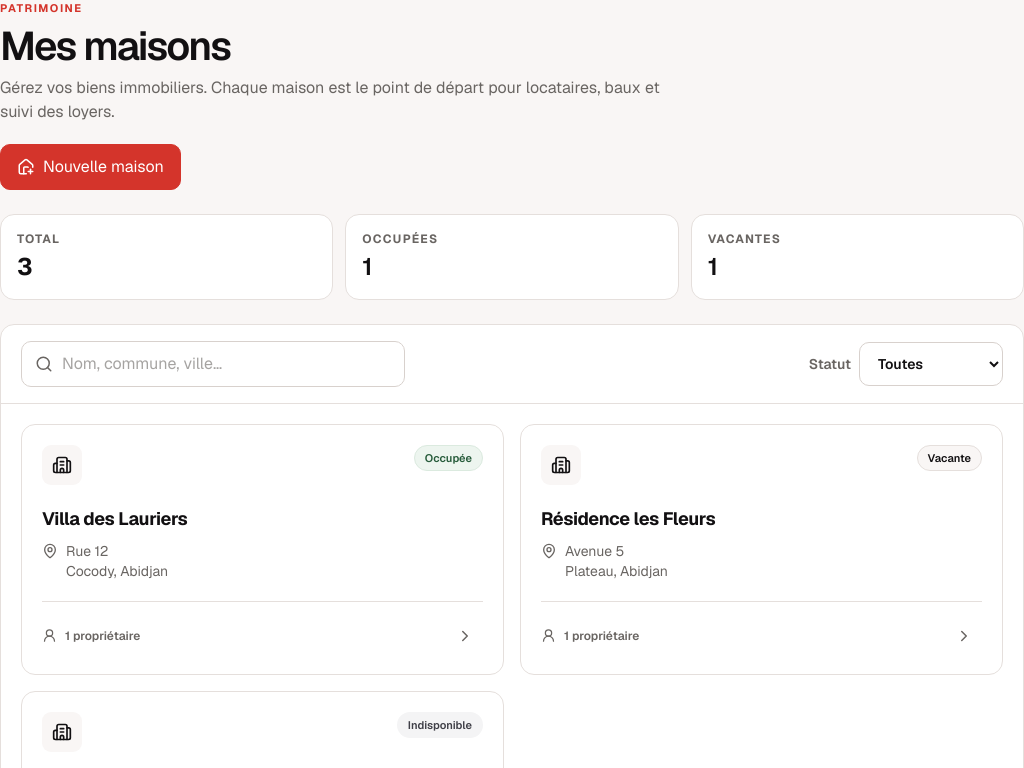
Scenario: HouseWorkspace › closes creation form on cancel
This screenshot has width=1024, height=768.
expect the heading "Villa des Lauriers" is shown: met, box [42,507,187,530]
Click the button "Nouvelle maison".
click(90, 167)  # box [0,144,181,190]
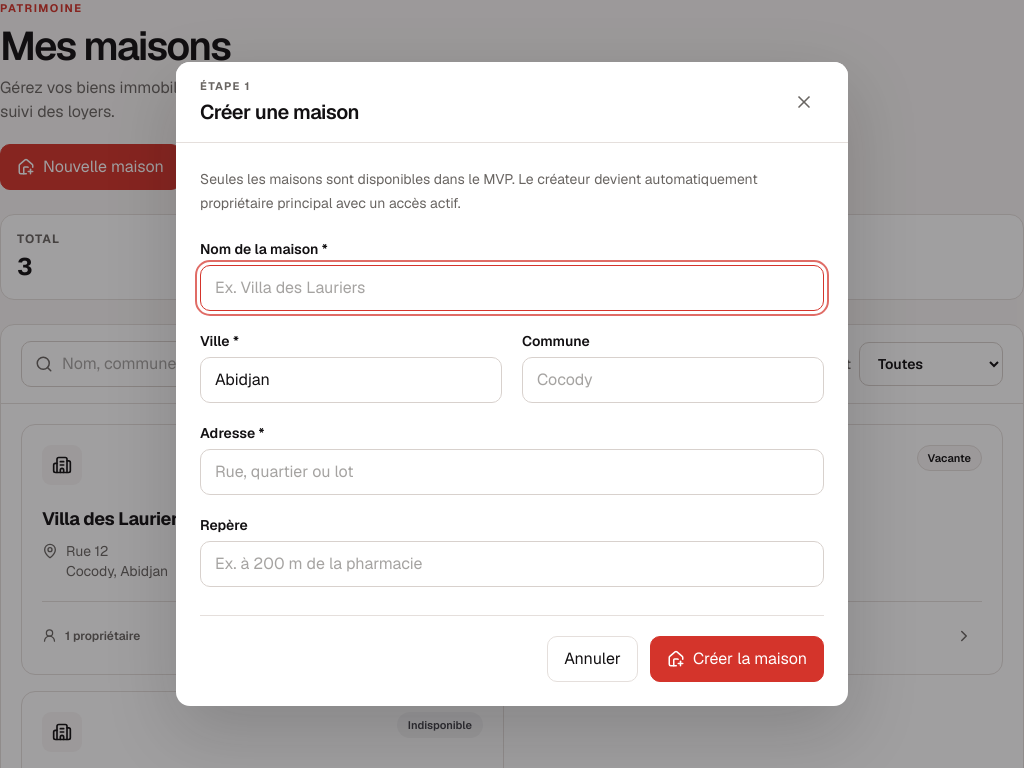
Click the button "Annuler".
click(593, 659)  # box [547,636,638,682]
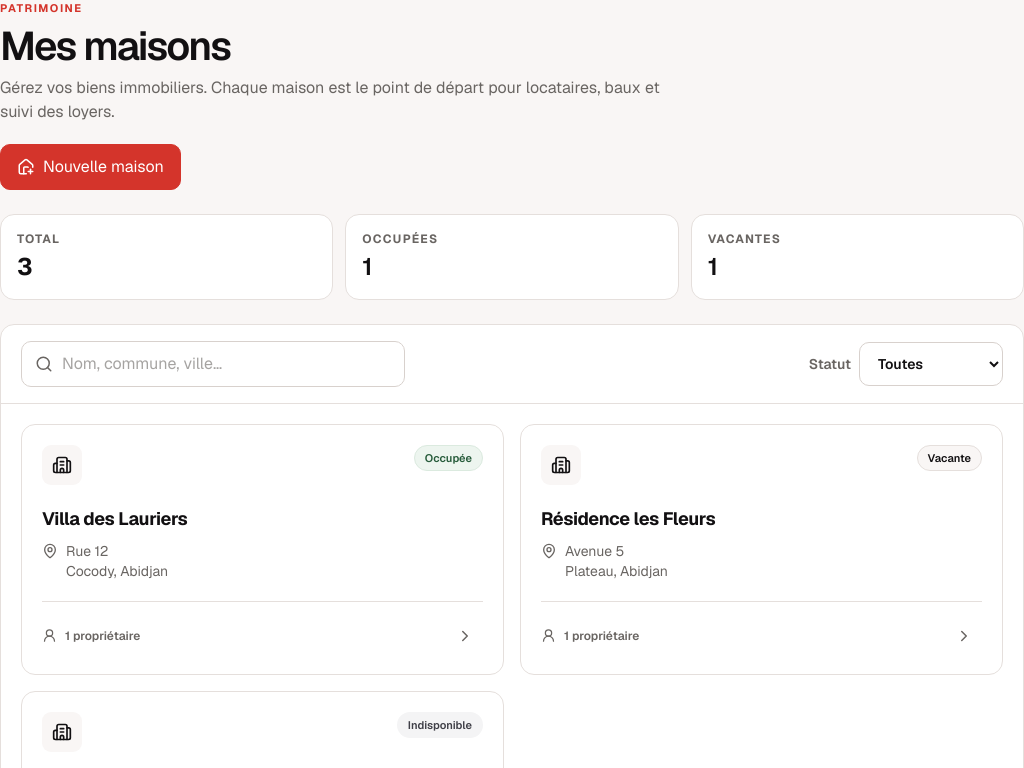
expect the heading "Créer une maison" is gone: met
